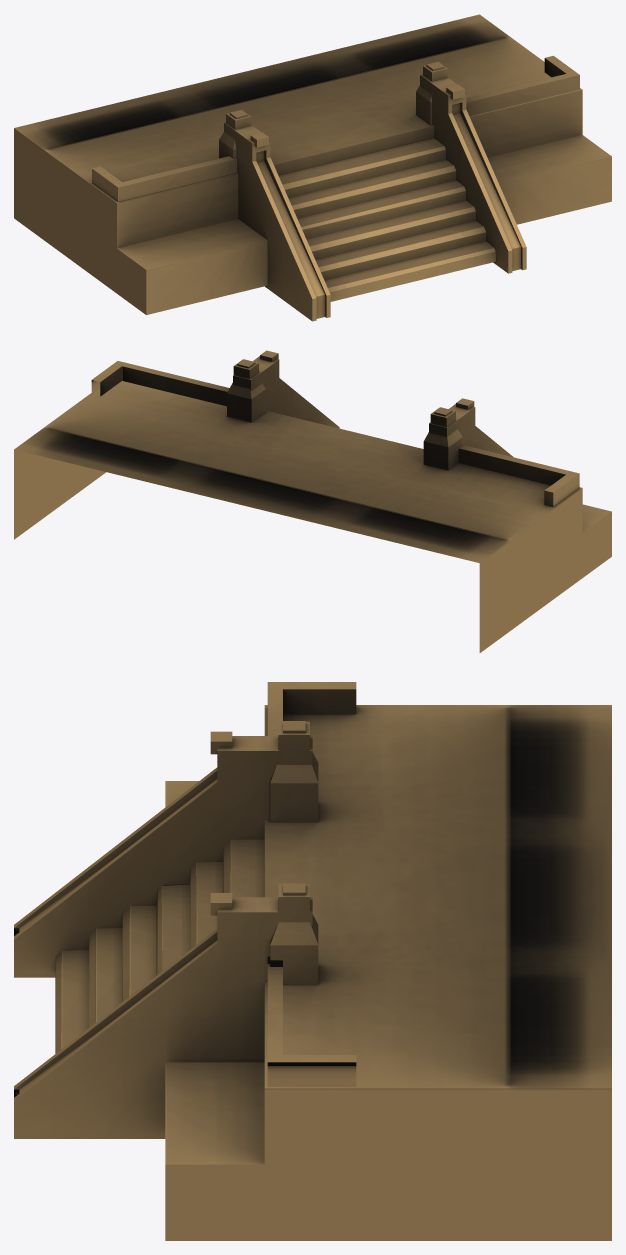
The model's file is Altar.fbx.
3 views of the same model, one above another, from view 1: azimuth 30°, elevation 25°; view 2: azimuth 150°, elevation 25°; view 3: azimuth 270°, elevation 25° (orthographic). The views are drawn at different scales.
Parts seen in each view (by area): view 1: AltarStairs; view 2: AltarStairs; view 3: AltarStairs.
Boxes of the visible parts, x1,y1,x2,y2 form: AltarStairs: (14,14,611,321); AltarStairs: (14,350,611,652); AltarStairs: (14,682,611,1240).
Bounding box in the file's own units: 701 × 208 × 462.
